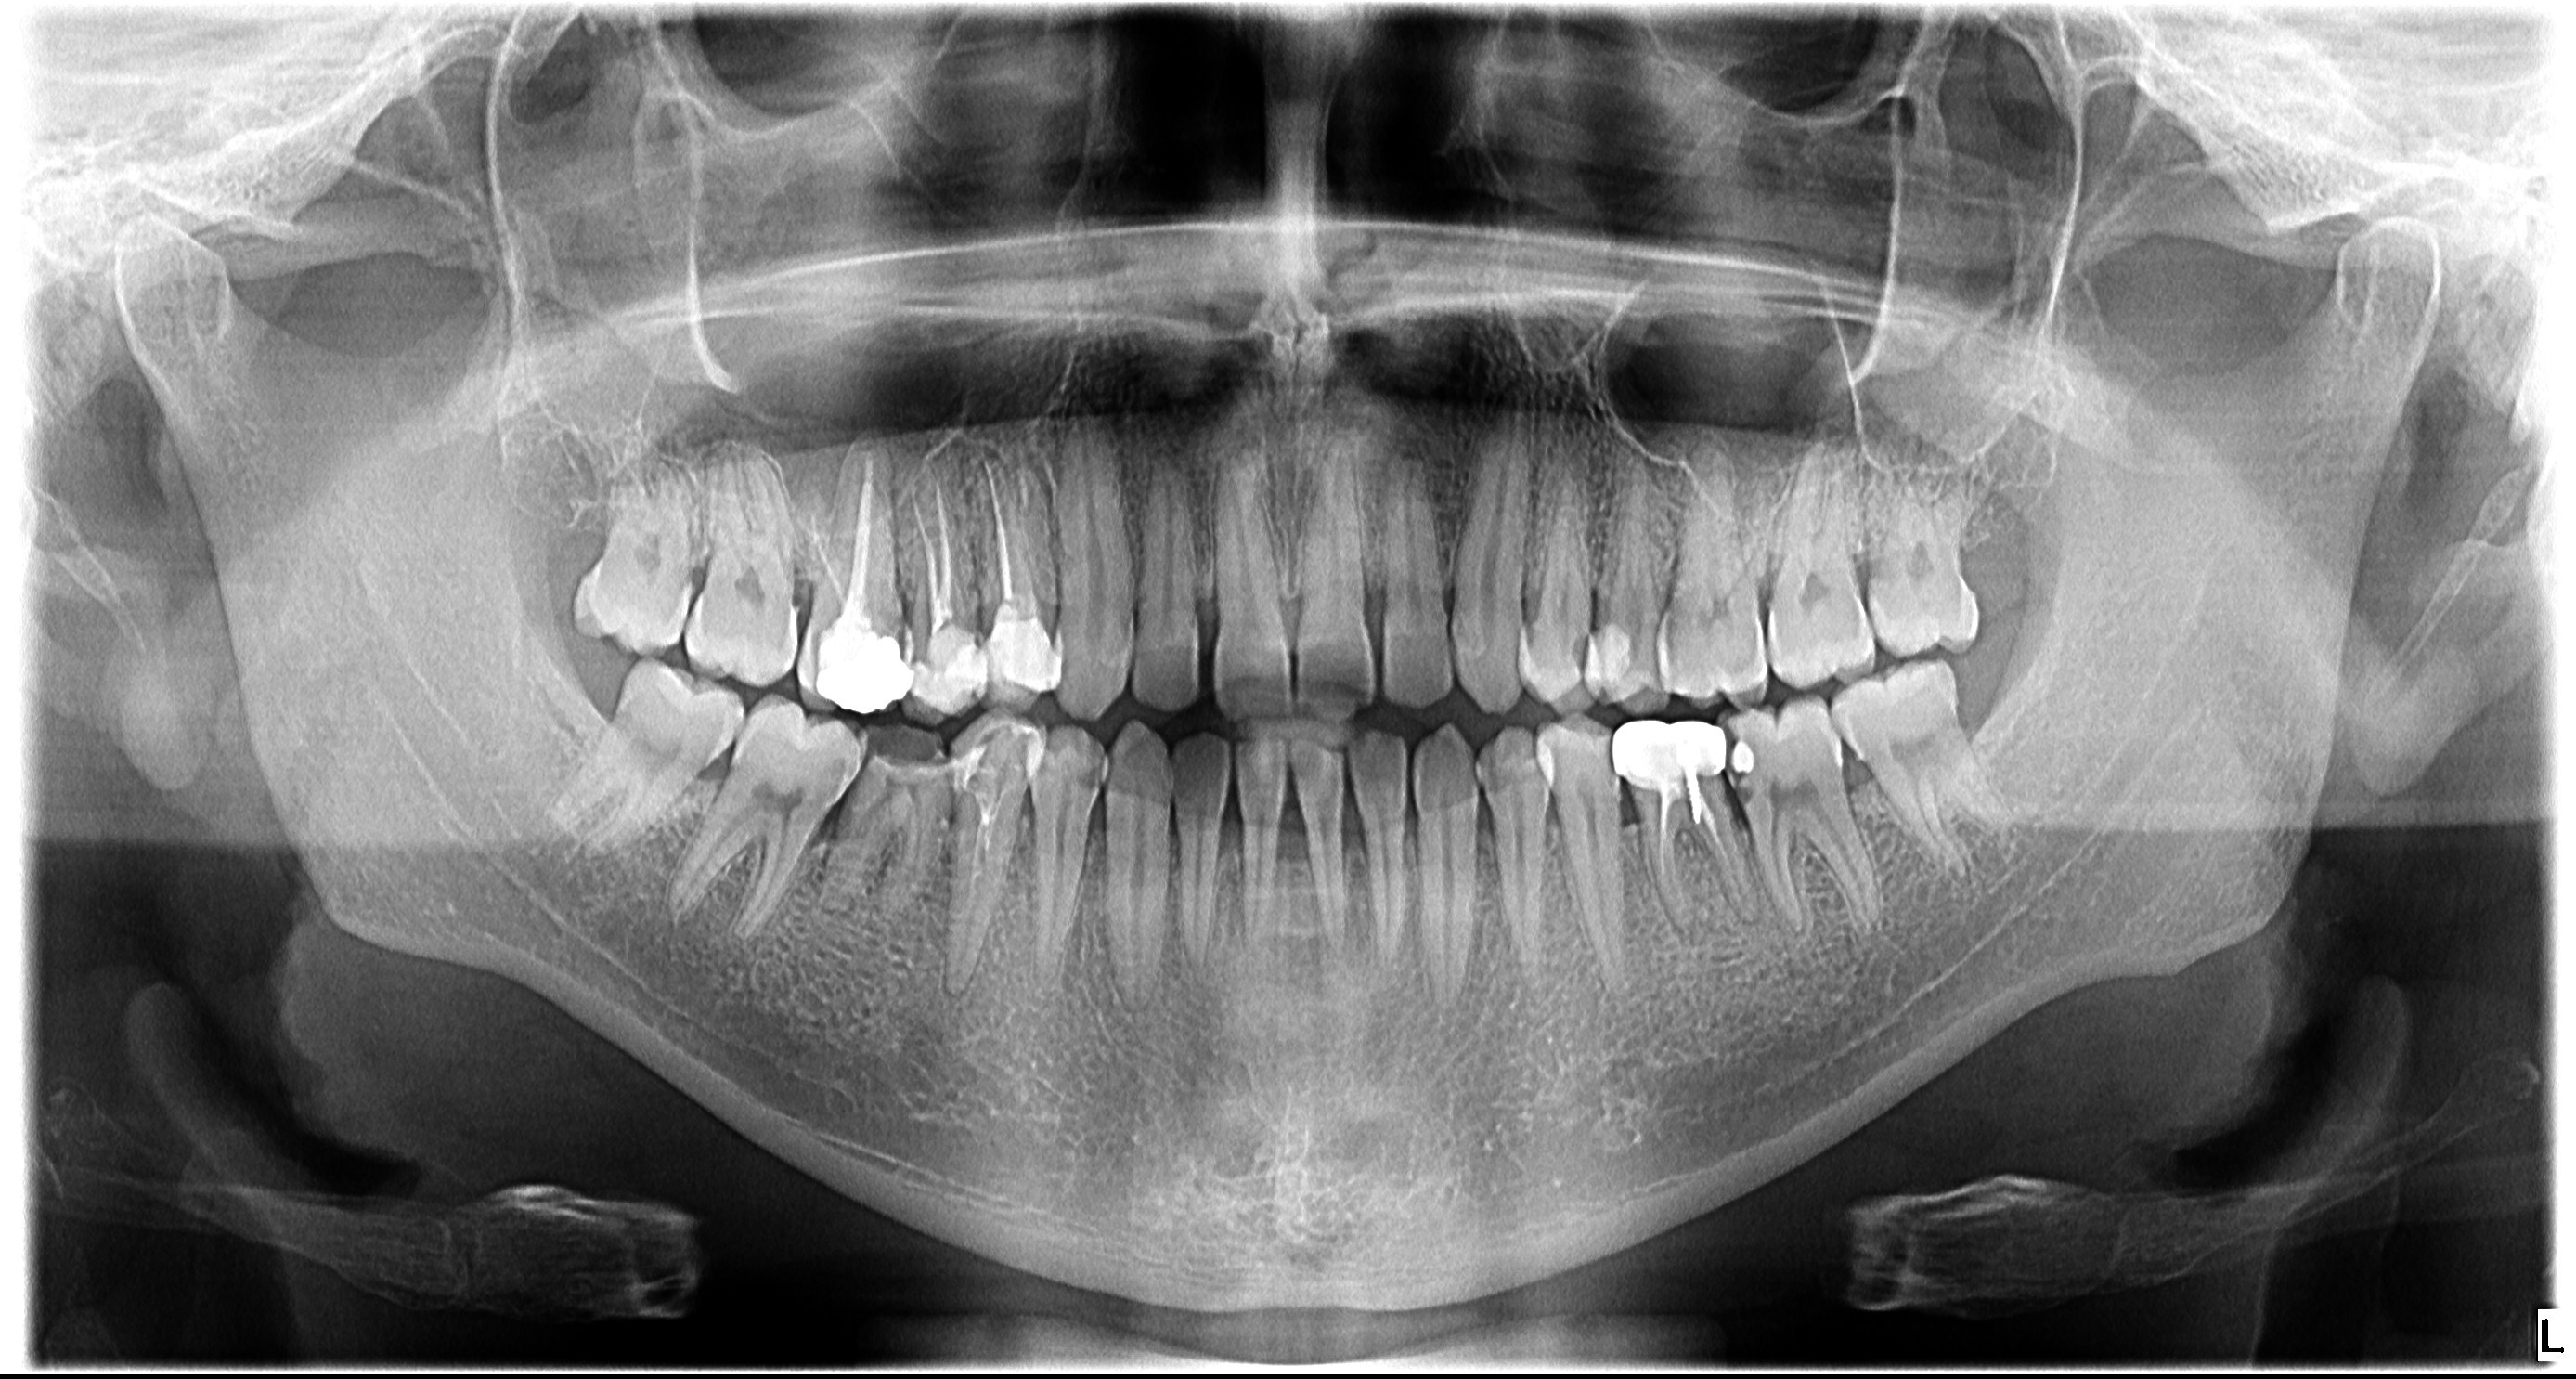API: (1654, 898, 1726, 961)
CAR: (859, 716, 969, 796), (1712, 767, 1772, 820), (1552, 619, 1603, 678)
END: (1627, 801, 1753, 910)
OBT: (802, 602, 915, 728), (906, 609, 1002, 723), (975, 597, 1080, 699), (946, 701, 1046, 805), (1571, 612, 1649, 694), (1721, 733, 1772, 782)
PRR: (1595, 707, 1736, 816)
